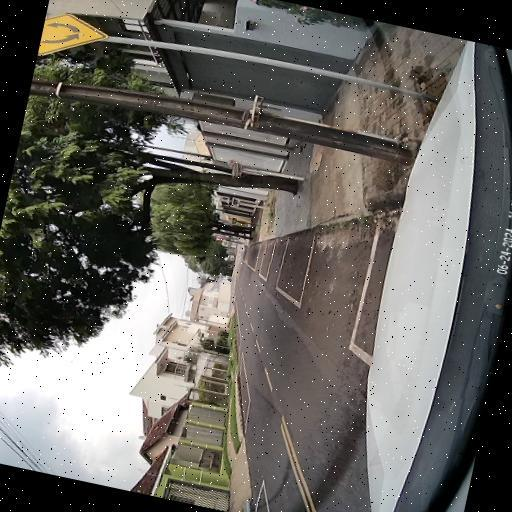A-12: (38, 8, 112, 66)
